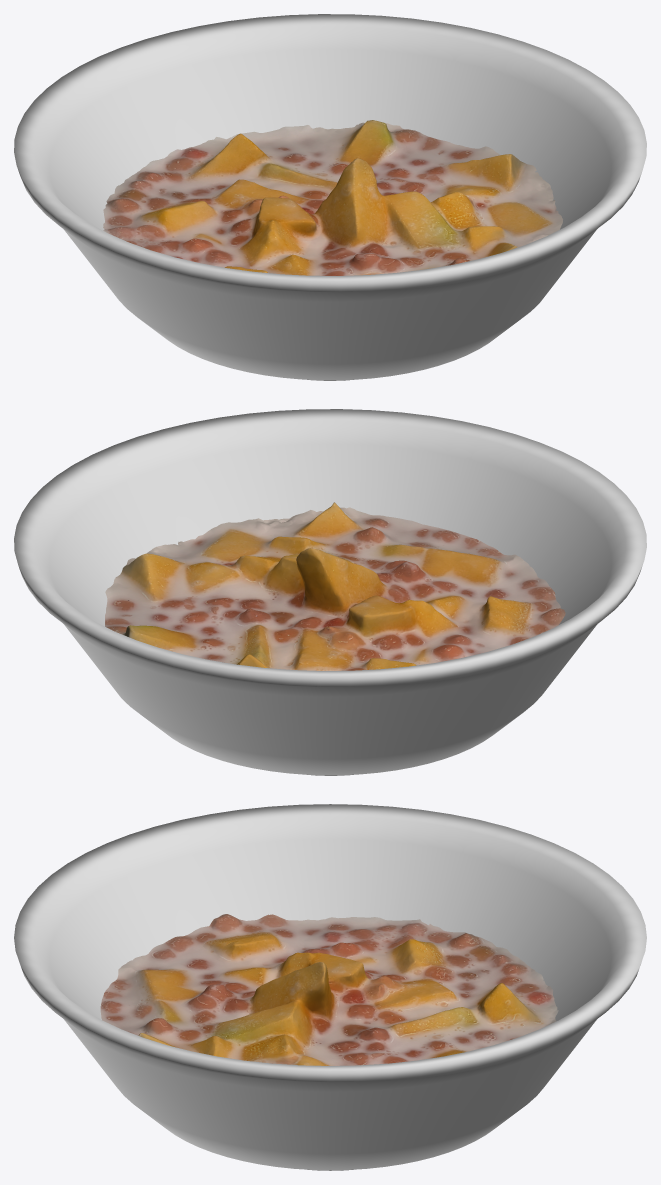
Rendered from Makanan_3.glb.
3 views of the same model, one above another, from view 1: azimuth 30°, elevation 25°; view 2: azimuth 150°, elevation 25°; view 3: azimuth 270°, elevation 25° (orthographic).
Visible parts, largest first — view 1: Cylinder, Model; view 2: Cylinder, Model; view 3: Cylinder, Model.
Part boxes in pixels (x1,y1,x2,y2): Cylinder: (14,14,646,380); Model: (103,120,562,275); Cylinder: (14,409,646,775); Model: (105,502,565,670); Cylinder: (14,804,646,1170); Model: (100,914,558,1065).
Bounding box in the file's own units: 336 × 109 × 336.
Materials: 2 (1 with a texture image).
